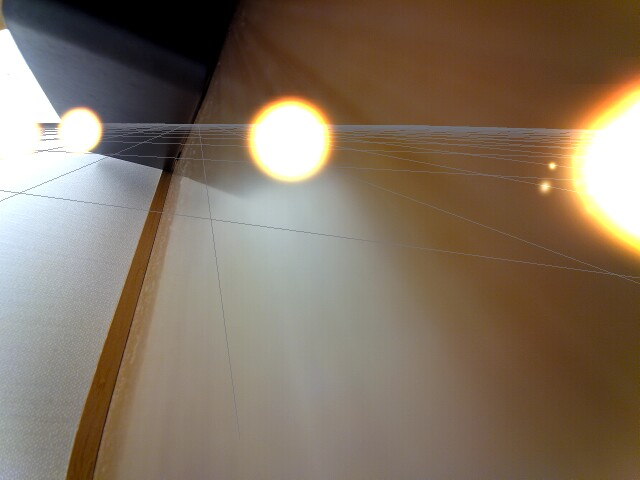firebig: (570, 81, 640, 269)
